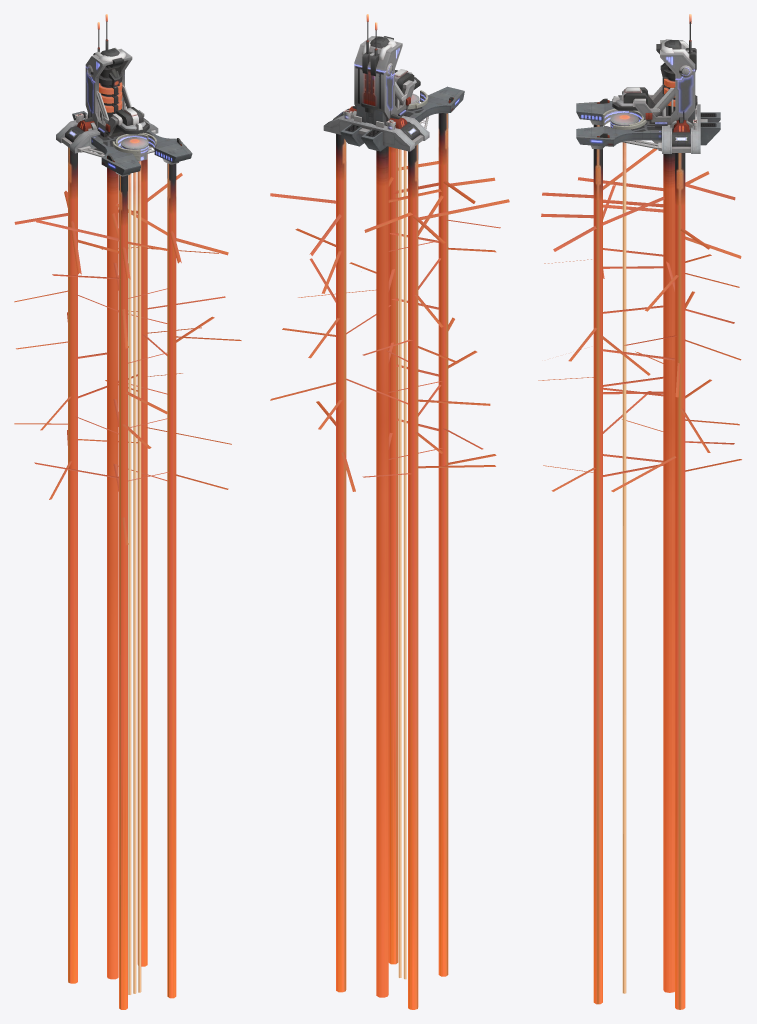
The picture shows the model from 3 angles, left to right: view 1: azimuth 30°, elevation 25°; view 2: azimuth 150°, elevation 25°; view 3: azimuth 270°, elevation 25°; orthographic projection. The views are drawn at different scales.
Visible parts, largest first — view 1: geothermal-power-station; view 2: geothermal-power-station; view 3: geothermal-power-station.
Part boxes in pixels (<box>): geothermal-power-station: <box>14,14,241,1009</box>; geothermal-power-station: <box>270,14,509,1009</box>; geothermal-power-station: <box>538,14,741,1009</box>.
Bounding box in the file's own units: 12.41 × 61.6 × 11.66.
1 material, 1 textured.
